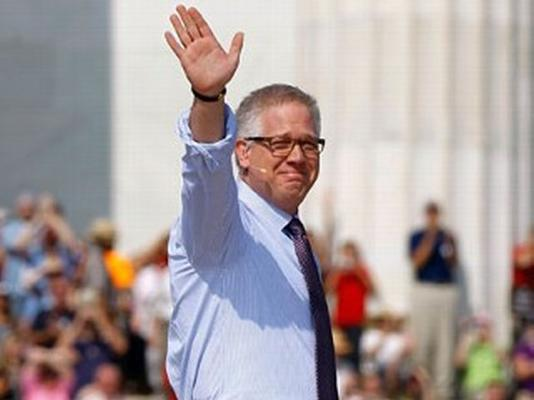person: (164, 6, 340, 400)
